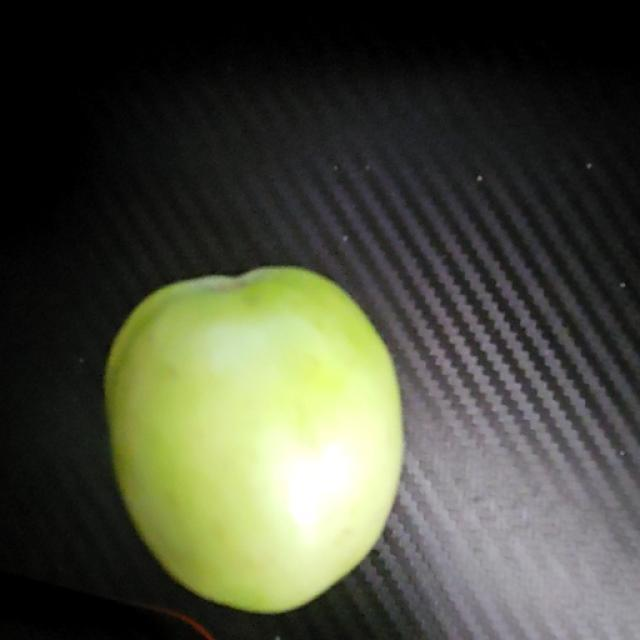Red: (101, 263, 406, 614)
